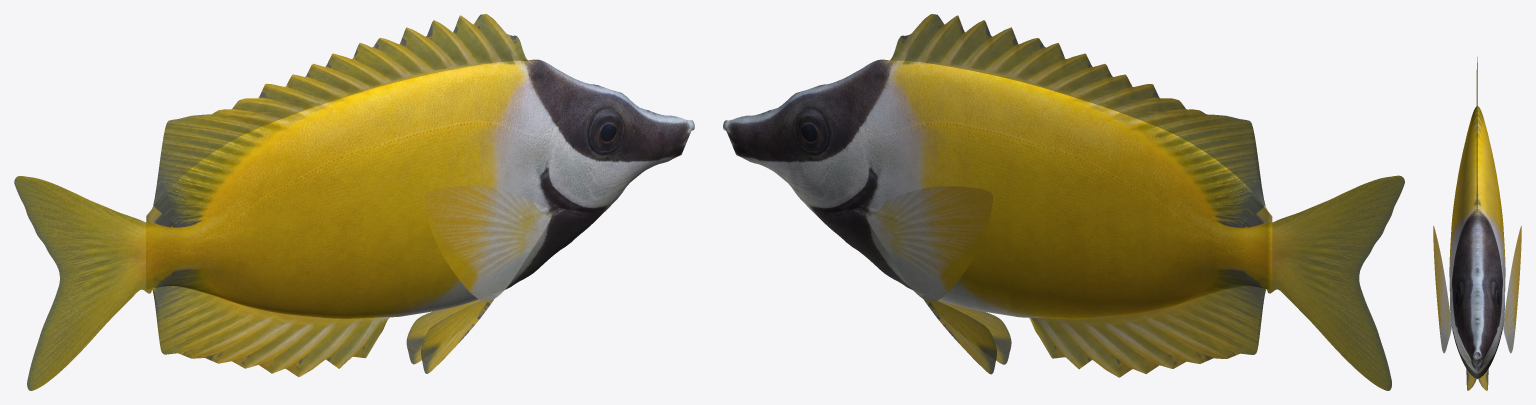
The model's file is vulpinus.glb.
3 renders of one model, left to right at view 1: azimuth 30°, elevation 25°; view 2: azimuth 150°, elevation 25°; view 3: azimuth 270°, elevation 25°, orthographic. The views are drawn at different scales.
Visible parts, largest first — view 1: vulpinus__body, vulpinus__fin_1, vulpinus__fin_0, vulpinus__fin_2, vulpinus__pectoral_1, vulpinus__gill_1, vulpinus__pelvic_1, vulpinus__pelvic_-1, vulpinus__eye_1; view 2: vulpinus__body, vulpinus__fin_1, vulpinus__fin_0, vulpinus__fin_2, vulpinus__pectoral_-1, vulpinus__gill_-1, vulpinus__pelvic_-1, vulpinus__pelvic_1, vulpinus__eye_-1; view 3: vulpinus__body, vulpinus__pectoral_1, vulpinus__pectoral_-1, vulpinus__fin_1, vulpinus__gill_-1, vulpinus__gill_1, vulpinus__pelvic_1, vulpinus__pelvic_-1, vulpinus__eye_1, vulpinus__eye_-1.
Part boxes in pixels (x1,y1,x2,y2): vulpinus__body: [146, 59, 694, 318]; vulpinus__fin_1: [151, 14, 528, 210]; vulpinus__fin_0: [14, 176, 153, 390]; vulpinus__fin_2: [152, 286, 389, 377]; vulpinus__pectoral_1: [425, 186, 552, 301]; vulpinus__gill_1: [547, 141, 597, 219]; vulpinus__pelvic_1: [421, 299, 494, 373]; vulpinus__pelvic_-1: [406, 299, 480, 364]; vulpinus__eye_1: [594, 111, 618, 143]; vulpinus__body: [723, 59, 1272, 319]; vulpinus__fin_1: [890, 14, 1267, 209]; vulpinus__fin_0: [1267, 175, 1404, 390]; vulpinus__fin_2: [1029, 286, 1266, 377]; vulpinus__pectoral_-1: [865, 186, 992, 301]; vulpinus__gill_-1: [820, 141, 871, 219]; vulpinus__pelvic_-1: [923, 299, 996, 374]; vulpinus__pelvic_1: [937, 300, 1011, 364]; vulpinus__eye_-1: [799, 111, 823, 143]; vulpinus__body: [1449, 106, 1505, 378]; vulpinus__pectoral_1: [1433, 226, 1451, 353]; vulpinus__pectoral_-1: [1503, 226, 1521, 353]; vulpinus__fin_1: [1476, 57, 1477, 212]; vulpinus__gill_-1: [1499, 275, 1504, 341]; vulpinus__gill_1: [1450, 275, 1455, 339]; vulpinus__pelvic_1: [1466, 369, 1476, 390]; vulpinus__pelvic_-1: [1478, 369, 1488, 390]; vulpinus__eye_1: [1455, 283, 1462, 306]; vulpinus__eye_-1: [1492, 283, 1499, 306].
Bounding box in the file's own units: 1.25 × 0.6082 × 0.1831.
Materials: 5 (5 with a texture image).
